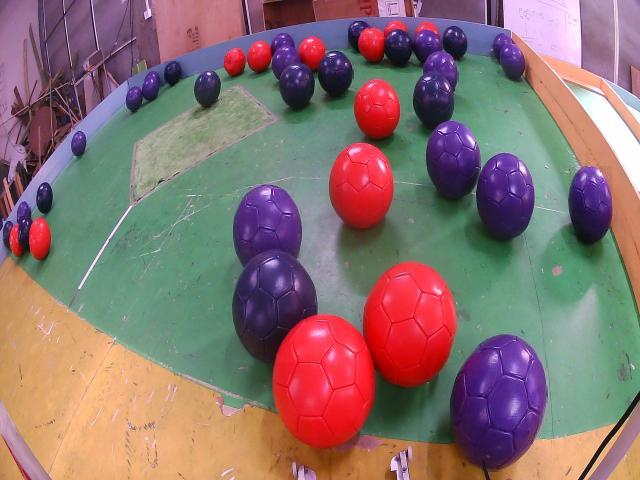jambhalya: (451, 335, 547, 471), (233, 185, 302, 266), (476, 154, 535, 240), (426, 120, 481, 198), (569, 166, 612, 244), (424, 51, 458, 91), (272, 45, 301, 80), (414, 30, 442, 63), (500, 44, 525, 80), (270, 34, 295, 55), (493, 34, 512, 58), (127, 86, 142, 111), (72, 131, 86, 157), (17, 202, 30, 223)
kaalyya: (232, 250, 318, 363), (413, 72, 455, 128), (318, 51, 353, 96), (280, 64, 315, 108), (385, 30, 413, 66), (194, 71, 221, 106), (442, 27, 468, 59), (349, 21, 369, 51), (37, 182, 52, 213), (19, 216, 32, 251), (164, 61, 181, 85), (4, 222, 14, 249)
